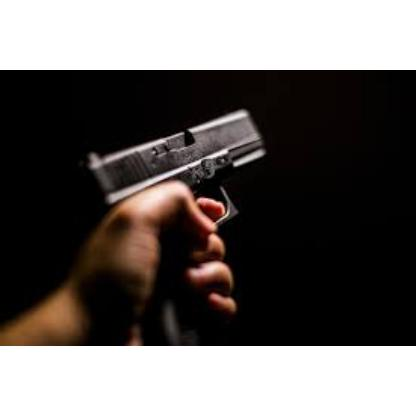gun: (76, 104, 268, 330)
